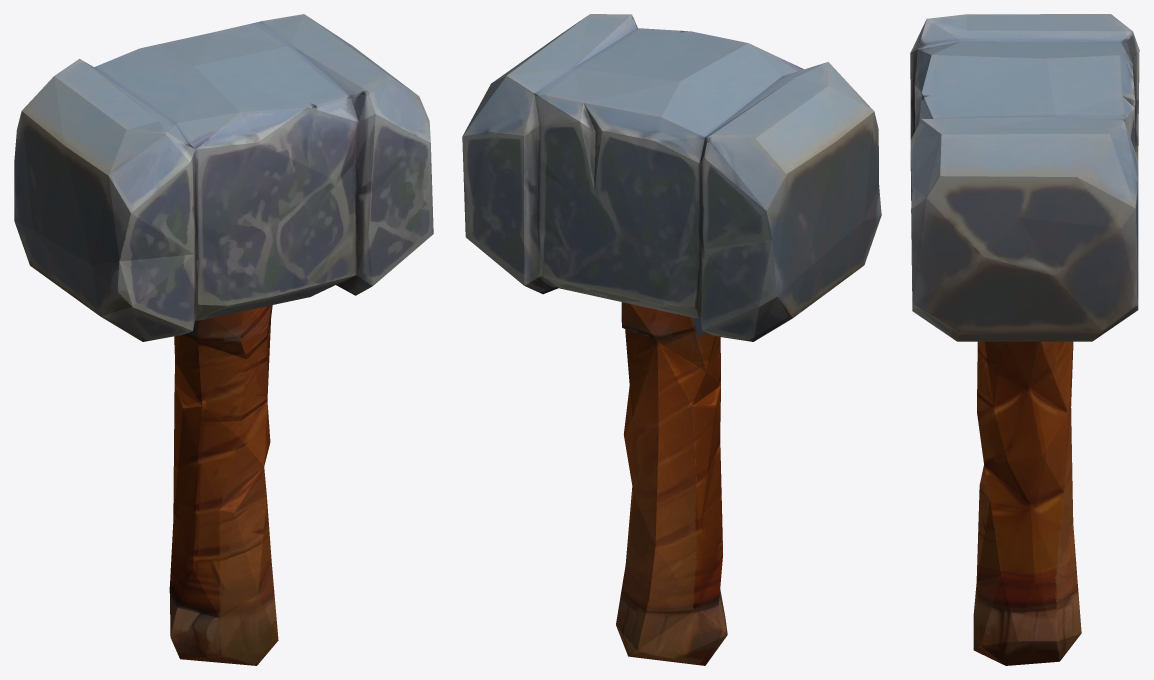
The model's file is stone_hammer.glb.
The picture shows the model from 3 angles, left to right: view 1: azimuth 30°, elevation 25°; view 2: azimuth 150°, elevation 25°; view 3: azimuth 270°, elevation 25°; orthographic projection.
Parts seen in each view (by area): view 1: TexturedMesh_.obj; view 2: TexturedMesh_.obj; view 3: TexturedMesh_.obj.
Boxes of the visible parts, x1=… form: TexturedMesh_.obj: x1=14, y1=14, x2=433, y2=665; TexturedMesh_.obj: x1=462, y1=14, x2=881, y2=665; TexturedMesh_.obj: x1=910, y1=14, x2=1139, y2=665.
Bounding box in the file's own units: 1.15 × 1.95 × 0.6956.
Materials: 1 (1 with a texture image).
